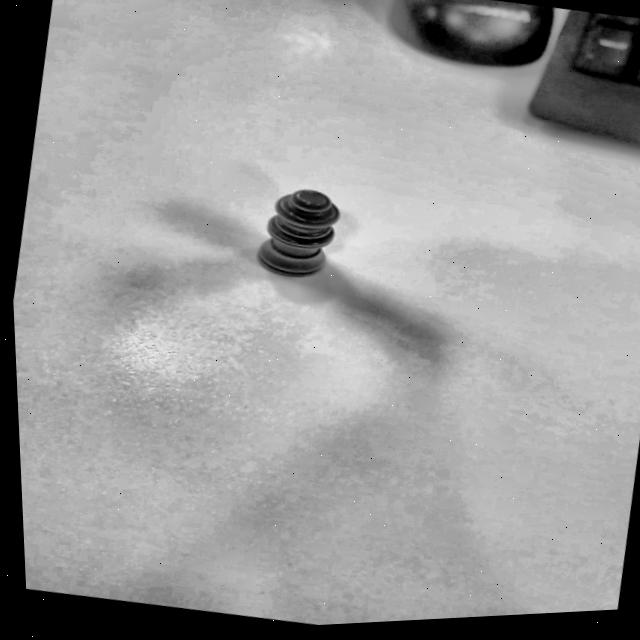black-queen: (216, 159, 368, 316)
